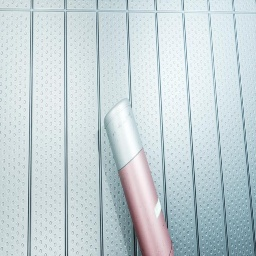NitrogenTank ,: (104, 98, 174, 256)
